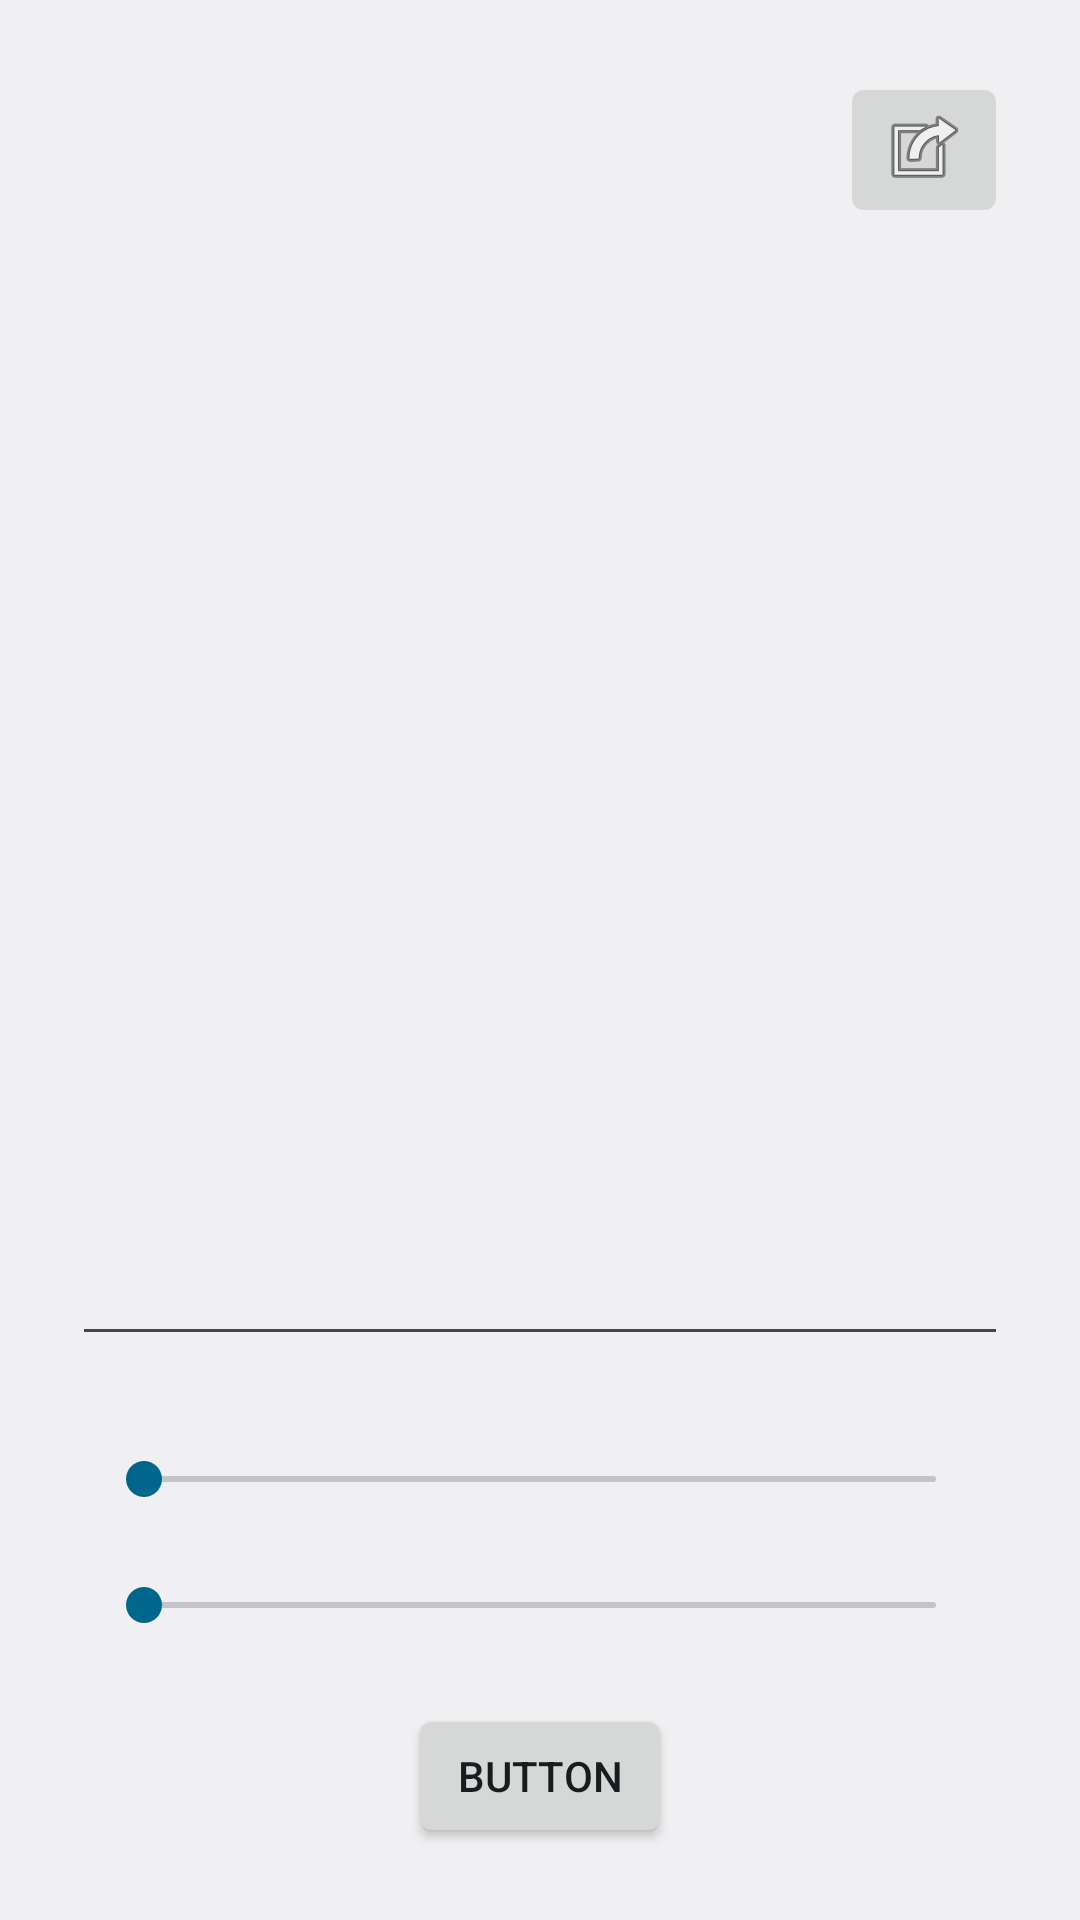

Icons on this 1080px x 1920px Android screen, each with the point to tap as (x,y):
set as: (924,150)
